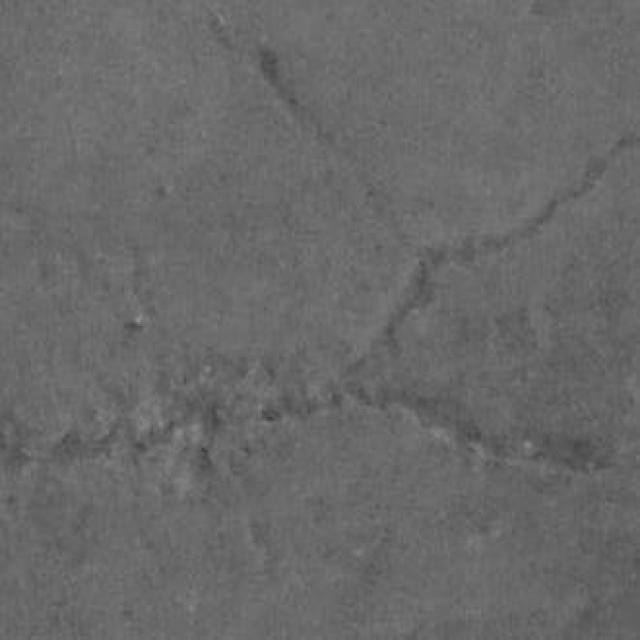crack: (344, 134, 639, 376), (322, 363, 535, 464), (531, 446, 611, 473)
